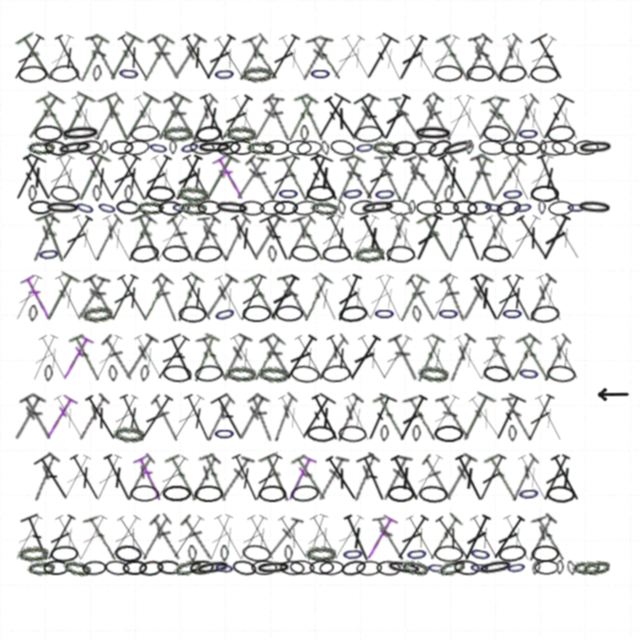chain: (439, 136, 478, 160), (476, 557, 515, 578), (59, 124, 102, 143), (56, 138, 94, 158), (194, 558, 232, 578), (385, 558, 423, 578), (359, 198, 397, 217), (412, 125, 454, 142), (172, 556, 203, 579), (436, 556, 467, 579), (425, 136, 454, 160), (213, 199, 251, 217), (129, 243, 160, 264), (241, 543, 272, 564), (497, 543, 528, 564), (353, 244, 385, 264), (81, 304, 113, 324), (577, 139, 614, 156), (576, 199, 613, 216), (161, 124, 193, 143), (417, 364, 449, 383), (17, 544, 49, 563), (194, 124, 224, 144), (50, 184, 80, 204), (338, 304, 368, 324), (530, 304, 560, 324), (290, 364, 320, 384), (482, 364, 512, 384), (546, 364, 576, 384), (62, 558, 92, 578), (44, 200, 81, 216), (255, 560, 292, 576), (49, 64, 80, 83), (321, 364, 352, 383), (194, 244, 223, 264), (257, 365, 289, 383), (212, 303, 238, 325), (130, 124, 160, 143), (546, 124, 576, 143), (290, 244, 320, 263), (482, 244, 512, 263), (162, 364, 192, 383), (194, 364, 224, 383), (290, 484, 320, 503), (400, 558, 430, 577), (581, 558, 611, 577), (241, 65, 272, 83), (177, 185, 208, 203), (113, 425, 144, 443), (196, 140, 233, 155), (498, 64, 527, 83), (482, 124, 511, 143), (114, 544, 143, 563), (43, 138, 70, 158), (495, 198, 522, 218), (306, 425, 336, 443), (418, 485, 448, 503), (231, 558, 258, 578), (340, 558, 367, 578), (123, 138, 151, 157), (385, 198, 413, 217), (225, 125, 256, 142), (225, 365, 256, 382), (305, 545, 336, 562), (18, 65, 47, 83), (530, 65, 559, 83), (354, 125, 383, 143), (146, 185, 175, 203), (322, 245, 351, 263), (386, 245, 415, 263), (178, 305, 207, 323), (338, 425, 367, 443), (546, 485, 575, 503), (50, 545, 79, 563), (434, 545, 463, 563), (329, 138, 356, 157), (349, 198, 376, 217), (468, 544, 493, 564), (434, 65, 463, 82), (466, 65, 495, 82), (34, 125, 63, 142), (371, 139, 400, 156), (306, 185, 335, 202), (530, 185, 559, 202), (162, 245, 191, 262), (242, 305, 271, 322), (434, 425, 463, 442), (130, 485, 159, 502), (162, 485, 191, 502), (194, 485, 223, 502), (258, 485, 287, 502), (296, 139, 323, 157), (539, 139, 566, 157), (292, 199, 319, 217), (73, 198, 97, 218), (95, 198, 119, 218), (275, 305, 303, 322), (387, 485, 415, 502), (531, 545, 559, 562), (216, 139, 242, 157), (411, 139, 437, 157), (104, 559, 130, 577), (138, 559, 164, 577), (76, 139, 103, 156), (478, 139, 505, 156), (551, 139, 578, 156), (259, 199, 286, 216), (453, 559, 480, 576), (117, 64, 141, 83), (178, 138, 202, 157), (341, 184, 365, 203), (517, 364, 541, 383), (517, 484, 541, 503), (179, 200, 207, 216), (310, 200, 338, 216), (27, 560, 55, 576), (189, 139, 215, 156), (115, 199, 141, 216), (452, 199, 478, 216), (156, 559, 182, 576), (189, 559, 215, 576), (289, 559, 315, 576), (373, 185, 397, 203), (501, 185, 525, 203), (37, 245, 61, 263), (341, 545, 365, 563), (405, 545, 429, 563), (27, 140, 55, 155), (246, 140, 274, 155), (136, 200, 164, 215), (572, 560, 600, 575), (500, 140, 526, 156), (239, 200, 265, 216), (416, 200, 442, 216), (548, 200, 574, 216), (279, 560, 305, 576), (356, 560, 382, 576), (213, 65, 236, 83), (147, 139, 170, 157), (213, 559, 236, 577), (392, 140, 417, 156), (158, 200, 183, 216), (467, 200, 492, 216), (82, 560, 107, 576), (319, 560, 344, 576), (376, 560, 401, 576), (309, 65, 332, 82), (517, 125, 540, 142), (277, 185, 300, 202), (373, 305, 396, 322), (437, 305, 460, 322), (501, 305, 524, 322), (213, 425, 236, 442), (505, 559, 528, 576), (286, 140, 312, 155), (573, 140, 599, 155), (43, 560, 69, 575), (251, 560, 277, 575), (109, 140, 134, 155), (229, 140, 254, 155), (264, 140, 289, 155), (516, 140, 541, 155), (28, 200, 53, 215), (197, 200, 222, 215), (273, 200, 298, 215), (434, 200, 459, 215), (122, 560, 147, 575), (309, 560, 334, 575), (534, 560, 559, 575), (354, 139, 376, 156), (483, 199, 505, 216), (512, 199, 534, 216), (426, 560, 448, 576), (171, 200, 192, 215), (566, 200, 587, 215), (469, 560, 490, 575), (411, 305, 423, 323), (443, 185, 454, 203), (267, 245, 278, 263), (139, 365, 150, 382), (187, 545, 198, 562), (320, 140, 331, 156), (566, 560, 577, 576), (92, 65, 102, 82), (92, 185, 102, 202), (28, 305, 38, 322), (108, 365, 118, 382), (337, 200, 347, 216), (531, 560, 541, 576), (300, 125, 309, 142), (28, 185, 37, 202), (124, 185, 133, 202), (44, 365, 53, 382), (380, 425, 389, 442), (412, 425, 421, 442), (508, 425, 517, 442), (220, 545, 229, 562), (284, 545, 293, 562), (100, 140, 109, 155), (465, 140, 474, 155), (169, 140, 177, 155), (539, 140, 547, 155), (408, 200, 416, 215), (538, 200, 546, 215), (556, 560, 564, 575)
double: (15, 31, 60, 84), (21, 91, 66, 144), (118, 91, 162, 145), (294, 391, 338, 444), (32, 451, 76, 504), (102, 31, 145, 85), (150, 91, 193, 145), (198, 151, 241, 205), (416, 211, 459, 265), (310, 91, 353, 144), (352, 91, 395, 144), (55, 91, 97, 145), (39, 271, 81, 325), (455, 391, 497, 445), (359, 31, 401, 84), (529, 31, 571, 84), (209, 391, 251, 444), (97, 91, 138, 145), (535, 91, 576, 145), (71, 151, 112, 205), (480, 92, 523, 143), (486, 152, 529, 203), (8, 151, 48, 205), (488, 391, 528, 445), (258, 451, 298, 505), (432, 513, 475, 563), (241, 32, 283, 83), (423, 512, 465, 563), (247, 332, 288, 384), (289, 452, 330, 504), (296, 151, 335, 205), (130, 211, 169, 265), (258, 211, 297, 265), (162, 331, 201, 385), (360, 391, 399, 445), (151, 333, 193, 383), (465, 393, 507, 443), (305, 32, 346, 83), (327, 32, 368, 83), (513, 212, 554, 263), (199, 272, 240, 323), (135, 392, 176, 443), (151, 452, 192, 503), (113, 512, 154, 563), (167, 512, 208, 563), (391, 512, 432, 563), (136, 32, 176, 84), (280, 92, 320, 144), (136, 272, 176, 324), (504, 332, 544, 384), (82, 512, 122, 564), (530, 512, 570, 564), (35, 211, 73, 265), (451, 211, 489, 265), (355, 451, 393, 505), (19, 511, 57, 565), (321, 93, 362, 143), (114, 32, 154, 83), (146, 32, 186, 83), (168, 32, 208, 83), (402, 32, 442, 83), (162, 92, 202, 143), (216, 92, 256, 143), (104, 152, 144, 203), (248, 212, 288, 263), (546, 212, 586, 263), (338, 272, 378, 323), (120, 332, 160, 383), (258, 332, 298, 383), (280, 332, 320, 383), (344, 332, 384, 383), (376, 332, 416, 383), (18, 392, 58, 443), (50, 392, 90, 443), (168, 392, 208, 443), (104, 512, 144, 563), (274, 512, 314, 563), (328, 512, 368, 563), (72, 32, 111, 84), (434, 32, 473, 84), (34, 92, 73, 144), (290, 212, 329, 264), (242, 272, 281, 324), (392, 272, 431, 324), (514, 332, 553, 384), (402, 392, 441, 444), (482, 452, 521, 504), (210, 33, 250, 83), (520, 33, 560, 83), (56, 213, 96, 263), (322, 453, 362, 503), (488, 513, 528, 563), (8, 32, 47, 83), (178, 32, 217, 83), (200, 32, 239, 83), (264, 32, 303, 83), (338, 32, 377, 83), (130, 92, 169, 143), (450, 92, 489, 143), (546, 92, 585, 143), (40, 152, 79, 203), (360, 152, 399, 203), (434, 152, 473, 203), (152, 212, 191, 263), (482, 212, 521, 263), (82, 272, 121, 323), (114, 272, 153, 323), (264, 272, 303, 323), (130, 332, 169, 383), (226, 332, 265, 383), (354, 332, 393, 383), (450, 332, 489, 383), (40, 392, 79, 443), (82, 392, 121, 443), (274, 392, 313, 443), (424, 392, 463, 443), (66, 452, 105, 503), (408, 452, 447, 503), (440, 452, 479, 503), (514, 452, 553, 503), (210, 512, 249, 563), (306, 512, 345, 563), (402, 512, 441, 563), (466, 512, 505, 563), (275, 32, 313, 84), (393, 32, 431, 84), (227, 92, 265, 144), (83, 152, 121, 204), (137, 152, 175, 204), (147, 152, 185, 204), (179, 152, 217, 204), (265, 152, 303, 204), (275, 152, 313, 204), (329, 152, 367, 204), (457, 152, 495, 204), (99, 212, 137, 264), (121, 212, 159, 264), (227, 212, 265, 264), (345, 212, 383, 264), (179, 272, 217, 324), (211, 272, 249, 324), (297, 272, 335, 324), (457, 272, 495, 324), (489, 272, 527, 324), (499, 272, 537, 324), (35, 332, 73, 384), (195, 332, 233, 384), (323, 332, 361, 384), (409, 332, 447, 384), (9, 392, 47, 444), (233, 392, 271, 444), (371, 392, 409, 444), (393, 392, 431, 444), (57, 452, 95, 504), (163, 452, 201, 504), (387, 452, 425, 504), (547, 452, 585, 504), (41, 512, 79, 564), (51, 512, 89, 564), (73, 512, 111, 564), (233, 512, 271, 564), (243, 512, 281, 564), (425, 32, 463, 83), (499, 32, 537, 83), (211, 152, 249, 203), (505, 212, 543, 263), (57, 332, 95, 383), (291, 332, 329, 383), (547, 332, 585, 383), (361, 512, 399, 563), (51, 32, 88, 84), (67, 92, 104, 144), (441, 92, 478, 144), (115, 152, 152, 204), (169, 152, 206, 204), (307, 152, 344, 204), (499, 152, 536, 204), (323, 212, 360, 264), (441, 212, 478, 264), (537, 212, 574, 264), (9, 272, 46, 324), (51, 272, 88, 324), (105, 272, 142, 324), (67, 332, 104, 384), (89, 332, 126, 384), (217, 332, 254, 384), (387, 332, 424, 384), (419, 332, 456, 384), (531, 392, 568, 444), (249, 452, 286, 504), (451, 452, 488, 504), (473, 452, 510, 504), (537, 452, 574, 504), (9, 512, 46, 564), (499, 512, 536, 564), (72, 393, 111, 442), (178, 513, 217, 562), (292, 91, 328, 144), (170, 271, 206, 324), (19, 152, 56, 203), (387, 212, 424, 263), (19, 272, 56, 323), (467, 272, 504, 323), (105, 392, 142, 443), (264, 514, 304, 561), (42, 32, 78, 84), (372, 32, 408, 84), (346, 92, 382, 144), (356, 212, 392, 264), (410, 212, 446, 264), (234, 272, 270, 324), (362, 272, 398, 324), (372, 272, 408, 324), (426, 272, 462, 324), (532, 272, 568, 324), (26, 332, 62, 384), (180, 392, 216, 444), (340, 392, 376, 444), (522, 392, 558, 444), (90, 452, 126, 504), (228, 452, 264, 504), (282, 452, 318, 504), (458, 512, 494, 564), (73, 273, 111, 322), (99, 333, 137, 382), (313, 333, 351, 382), (217, 453, 255, 502), (147, 513, 185, 562), (186, 331, 221, 384), (243, 153, 280, 203), (403, 153, 440, 203), (435, 393, 472, 443), (185, 453, 222, 503), (378, 92, 414, 143), (516, 92, 552, 143), (308, 392, 344, 443), (100, 452, 136, 503), (196, 92, 231, 144), (52, 152, 87, 204), (522, 152, 557, 204), (308, 272, 343, 324), (474, 332, 509, 384), (116, 392, 151, 444), (132, 452, 167, 504), (340, 512, 375, 564), (233, 153, 270, 202), (403, 273, 440, 322), (419, 453, 456, 502), (137, 513, 174, 562), (197, 451, 231, 504), (298, 33, 334, 83), (458, 33, 494, 83), (474, 93, 510, 143), (186, 213, 222, 263), (522, 273, 558, 323), (314, 453, 350, 503), (522, 513, 558, 563), (469, 152, 503, 204), (533, 152, 567, 204), (69, 212, 103, 264), (331, 272, 365, 324), (203, 512, 237, 564), (234, 33, 270, 82), (90, 93, 126, 142), (388, 93, 424, 142), (420, 93, 456, 142), (282, 213, 318, 262), (468, 33, 503, 83), (250, 93, 285, 143), (340, 153, 375, 203), (394, 153, 429, 203), (26, 213, 61, 263), (90, 213, 125, 263), (474, 213, 509, 263), (148, 393, 183, 443), (202, 393, 237, 443), (330, 393, 365, 443), (372, 513, 407, 563), (85, 32, 119, 83), (261, 92, 295, 143), (411, 92, 445, 143), (277, 272, 311, 323), (27, 452, 61, 503), (347, 452, 381, 503), (379, 452, 413, 503), (315, 212, 348, 264), (122, 453, 157, 502), (507, 93, 541, 143), (165, 213, 199, 263), (197, 213, 231, 263), (219, 213, 253, 263), (443, 333, 477, 383), (539, 333, 573, 383), (501, 393, 535, 443), (507, 453, 541, 503), (300, 512, 332, 564), (187, 93, 220, 143), (427, 153, 460, 203), (438, 272, 470, 323), (492, 33, 524, 83), (150, 273, 182, 323), (486, 333, 518, 383), (374, 152, 405, 203), (246, 392, 277, 443), (381, 212, 411, 263), (269, 392, 299, 443)
noise: (595, 388, 629, 401)
